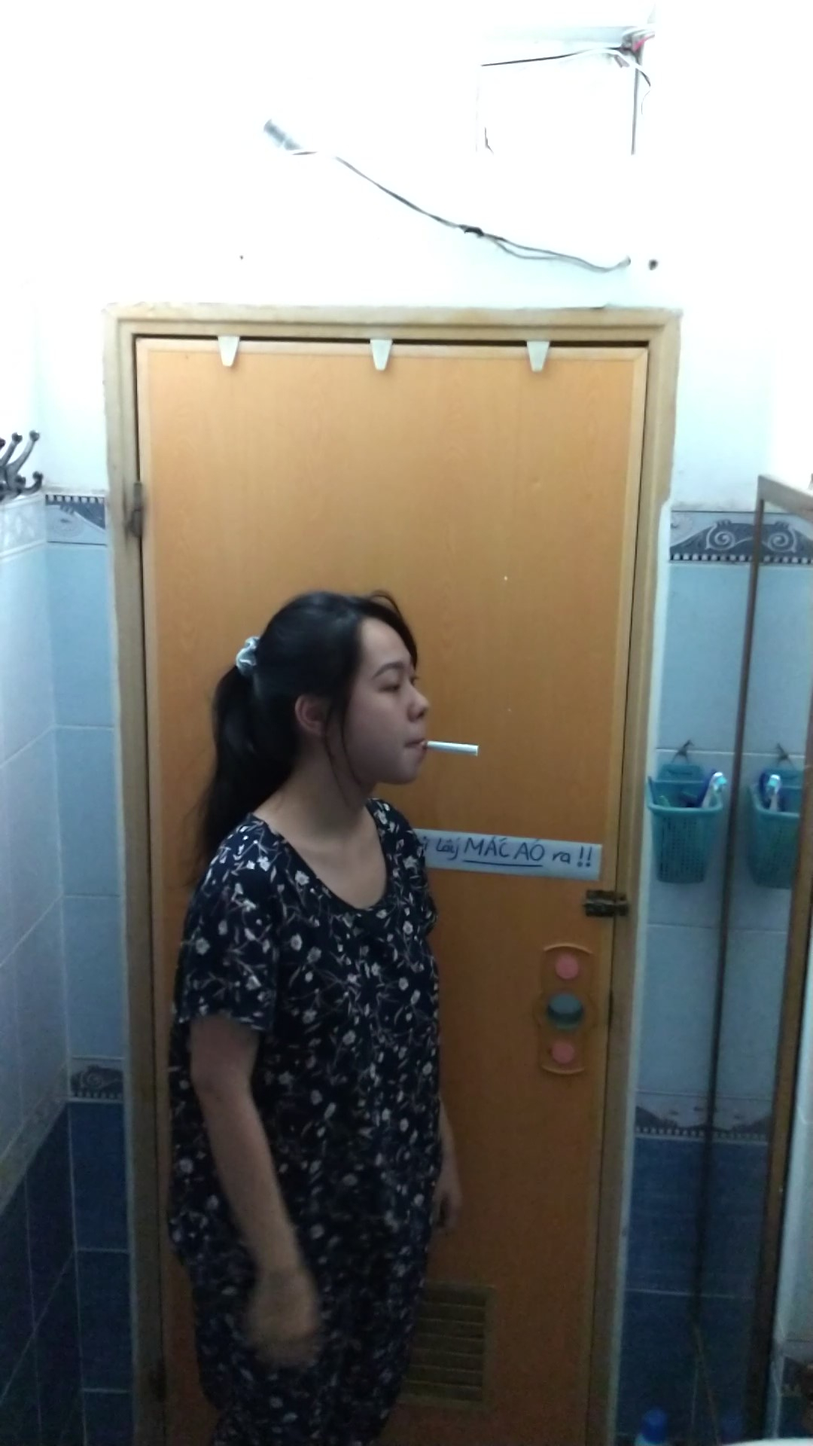cigarette: (419, 737, 484, 764)
person: (165, 585, 458, 1440)
